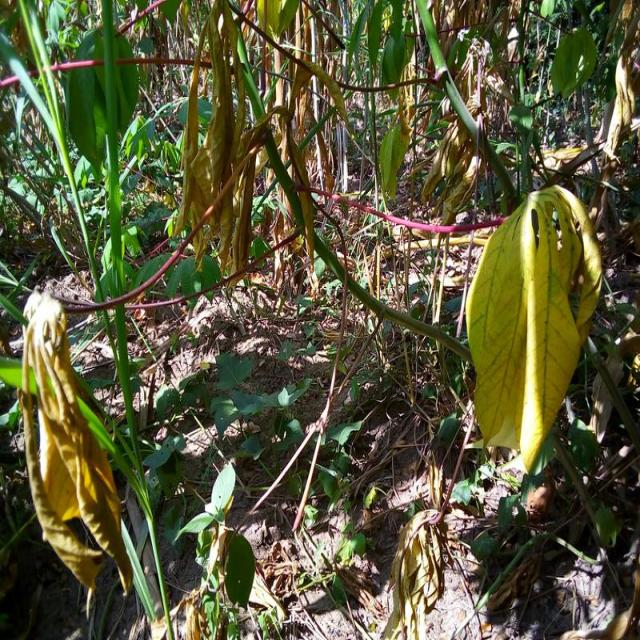cassava leaf: (466, 182, 604, 476)
